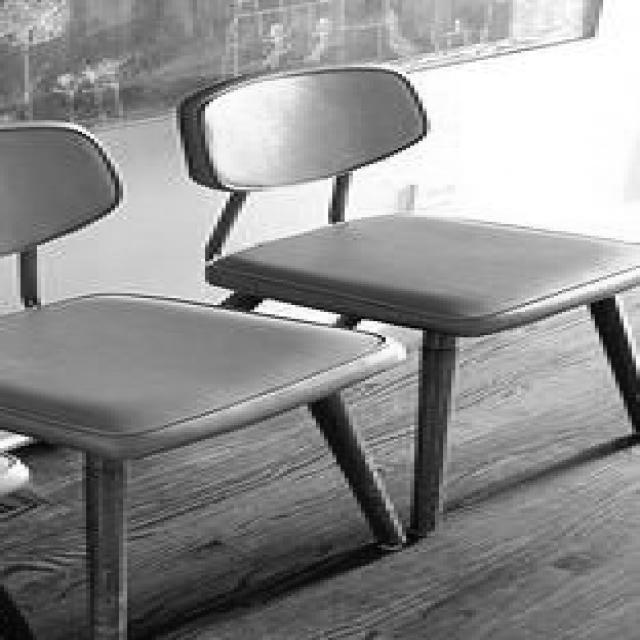chair: (172, 60, 636, 536), (0, 113, 411, 638)
